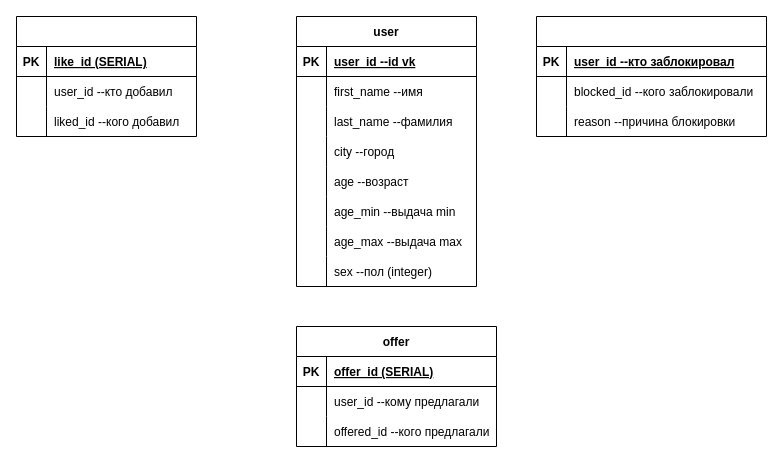
Some shapes in this 783 by 463 pixel diagram are drawn without their labels. The box of each missing label's shape, as (x1, y1, x2, y2) in pixels:
block_list: (536, 16, 766, 136)
favorites: (16, 16, 196, 136)
